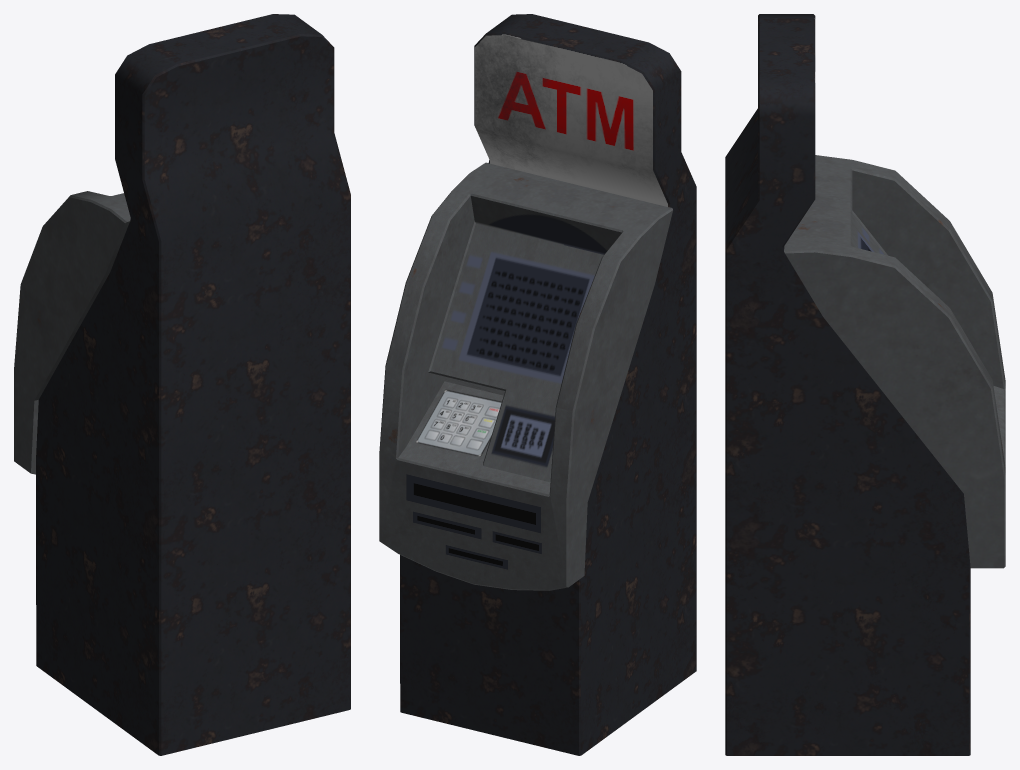
The model's file is atm.glb.
3 views of the same model, side by side, from view 1: azimuth 30°, elevation 25°; view 2: azimuth 150°, elevation 25°; view 3: azimuth 270°, elevation 25° (orthographic). The views are drawn at different scales.
Visible parts, largest first — view 1: SM_Atm; view 2: SM_Atm; view 3: SM_Atm.
Boxes of the visible parts, x1,y1,x2,y2 form: SM_Atm: (14, 14, 350, 755); SM_Atm: (379, 14, 696, 755); SM_Atm: (725, 14, 1005, 755).
Bounding box in the file's own units: 0.7132 × 2.28 × 0.8738.
1 material, 1 textured.
